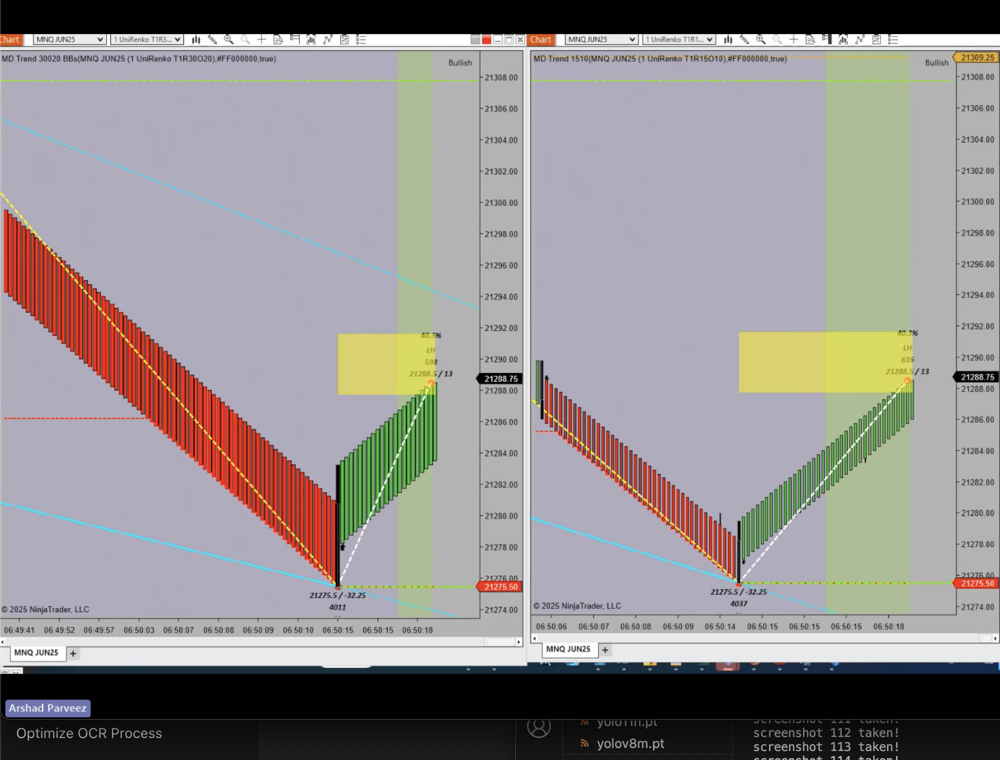LH: (897, 339, 921, 357), (420, 342, 444, 359)
